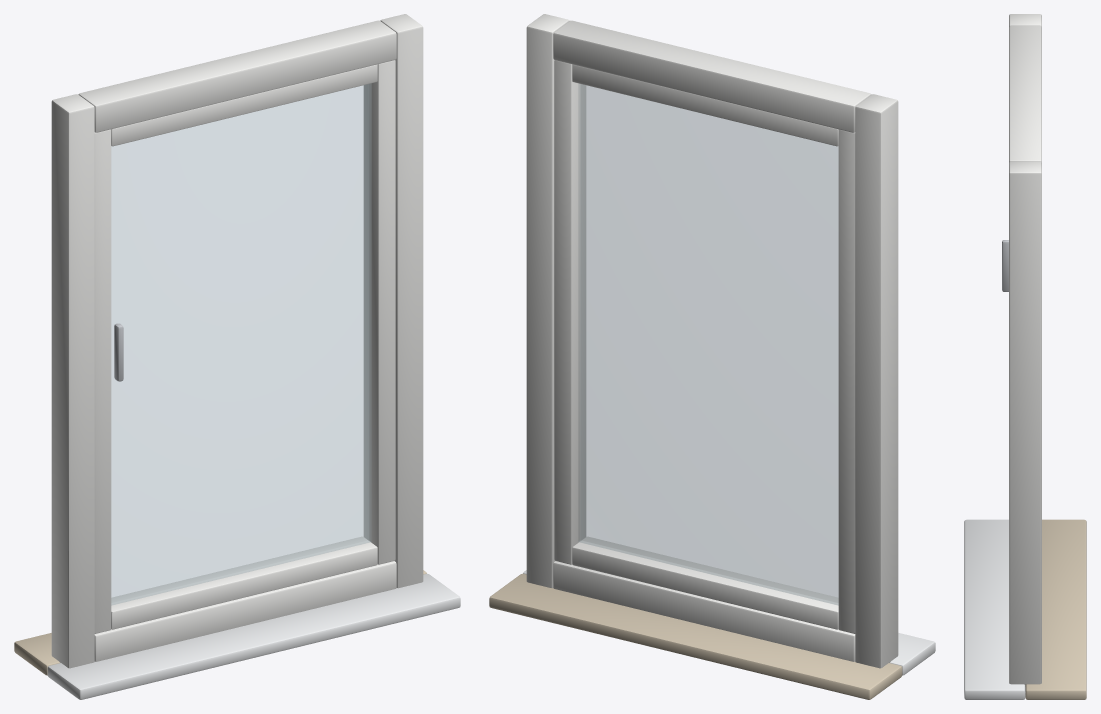
Rendered from window_1.glb.
3 views of the same model, side by side, from view 1: azimuth 30°, elevation 25°; view 2: azimuth 150°, elevation 25°; view 3: azimuth 270°, elevation 25° (orthographic). The views are drawn at different scales.
Parts seen in each view (by area): view 1: box.008, box, box.001, box.005, box.010, box.003, box.004, box.002, box.006, box.007, box.011; view 2: box.008, box, box.001, box.005, box.011, box.003, box.004, box.002, box.006, box.007, box.010; view 3: box.001, box.011, box.010, box.003, box, box.009.
Boxes of the visible parts, x1,y1,x2,y2 form: box.008: [111, 84, 371, 605]; box: [51, 94, 94, 668]; box.001: [380, 14, 423, 588]; box.005: [363, 60, 395, 564]; box.010: [47, 573, 460, 699]; box.003: [78, 20, 396, 132]; box.004: [94, 129, 111, 633]; box.002: [94, 561, 396, 661]; box.006: [111, 536, 377, 629]; box.007: [111, 64, 377, 146]; box.011: [14, 570, 426, 675]; box.008: [578, 84, 838, 605]; box: [855, 94, 898, 668]; box.001: [526, 14, 569, 587]; box.005: [554, 60, 586, 564]; box.011: [489, 573, 902, 699]; box.003: [553, 20, 871, 132]; box.004: [838, 129, 855, 633]; box.002: [553, 561, 855, 661]; box.006: [572, 536, 838, 629]; box.007: [572, 64, 838, 146]; box.010: [523, 570, 935, 675]; box.001: [1009, 161, 1041, 684]; box.011: [1025, 519, 1086, 699]; box.010: [964, 519, 1025, 699]; box.003: [1009, 26, 1041, 162]; box: [1009, 14, 1041, 26]; box.009: [1002, 240, 1008, 291].
Size of the model in its own units: 86 by 122 by 26.
